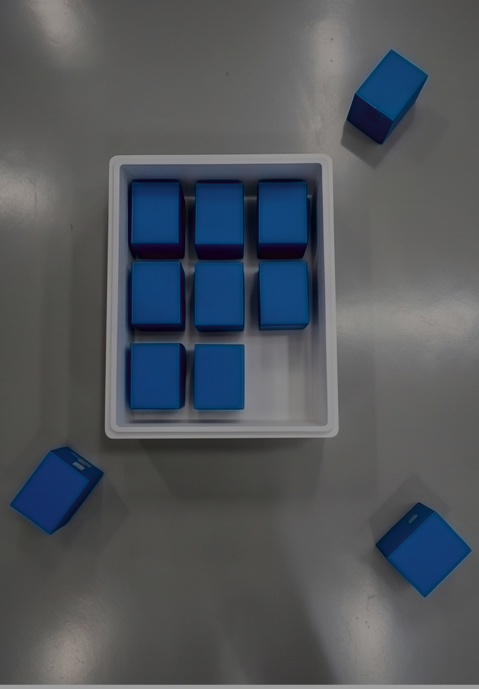blue_box: (372, 506, 472, 601), (9, 448, 105, 535), (347, 50, 429, 143), (131, 179, 186, 260), (258, 180, 309, 260), (133, 260, 186, 336), (194, 180, 243, 260), (131, 343, 188, 410), (196, 260, 245, 336), (261, 260, 309, 332), (194, 343, 245, 410)
container_box: (104, 154, 344, 440)
